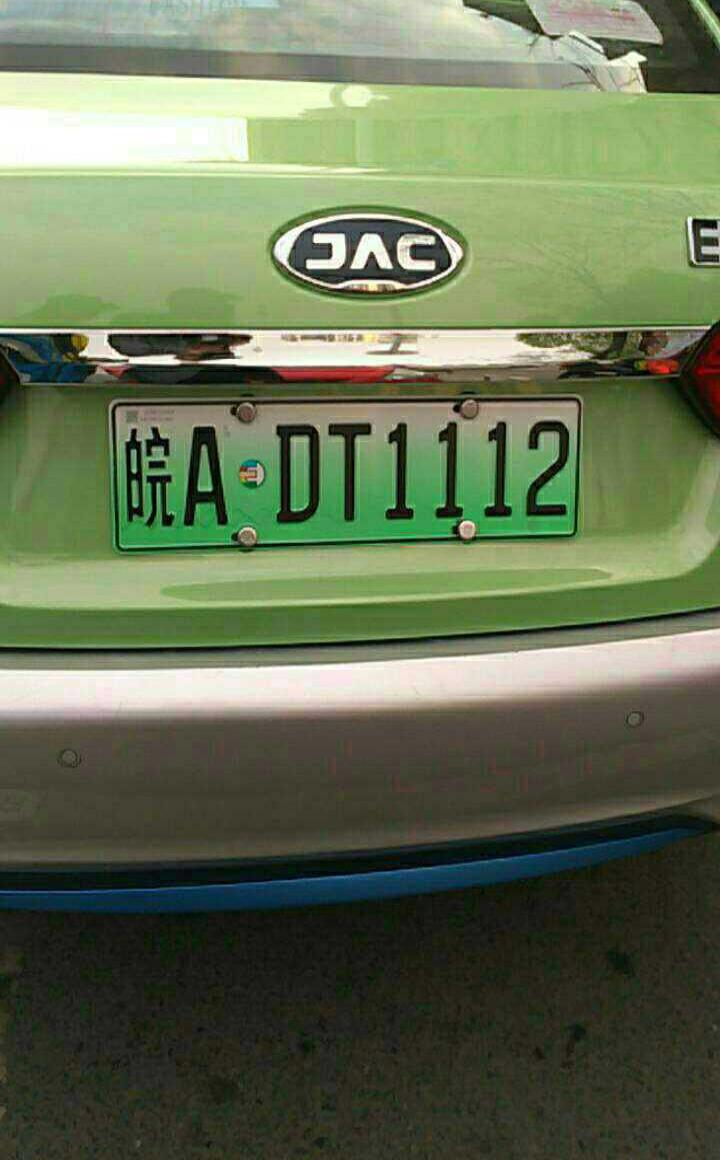car_id: (112, 398, 577, 542)
